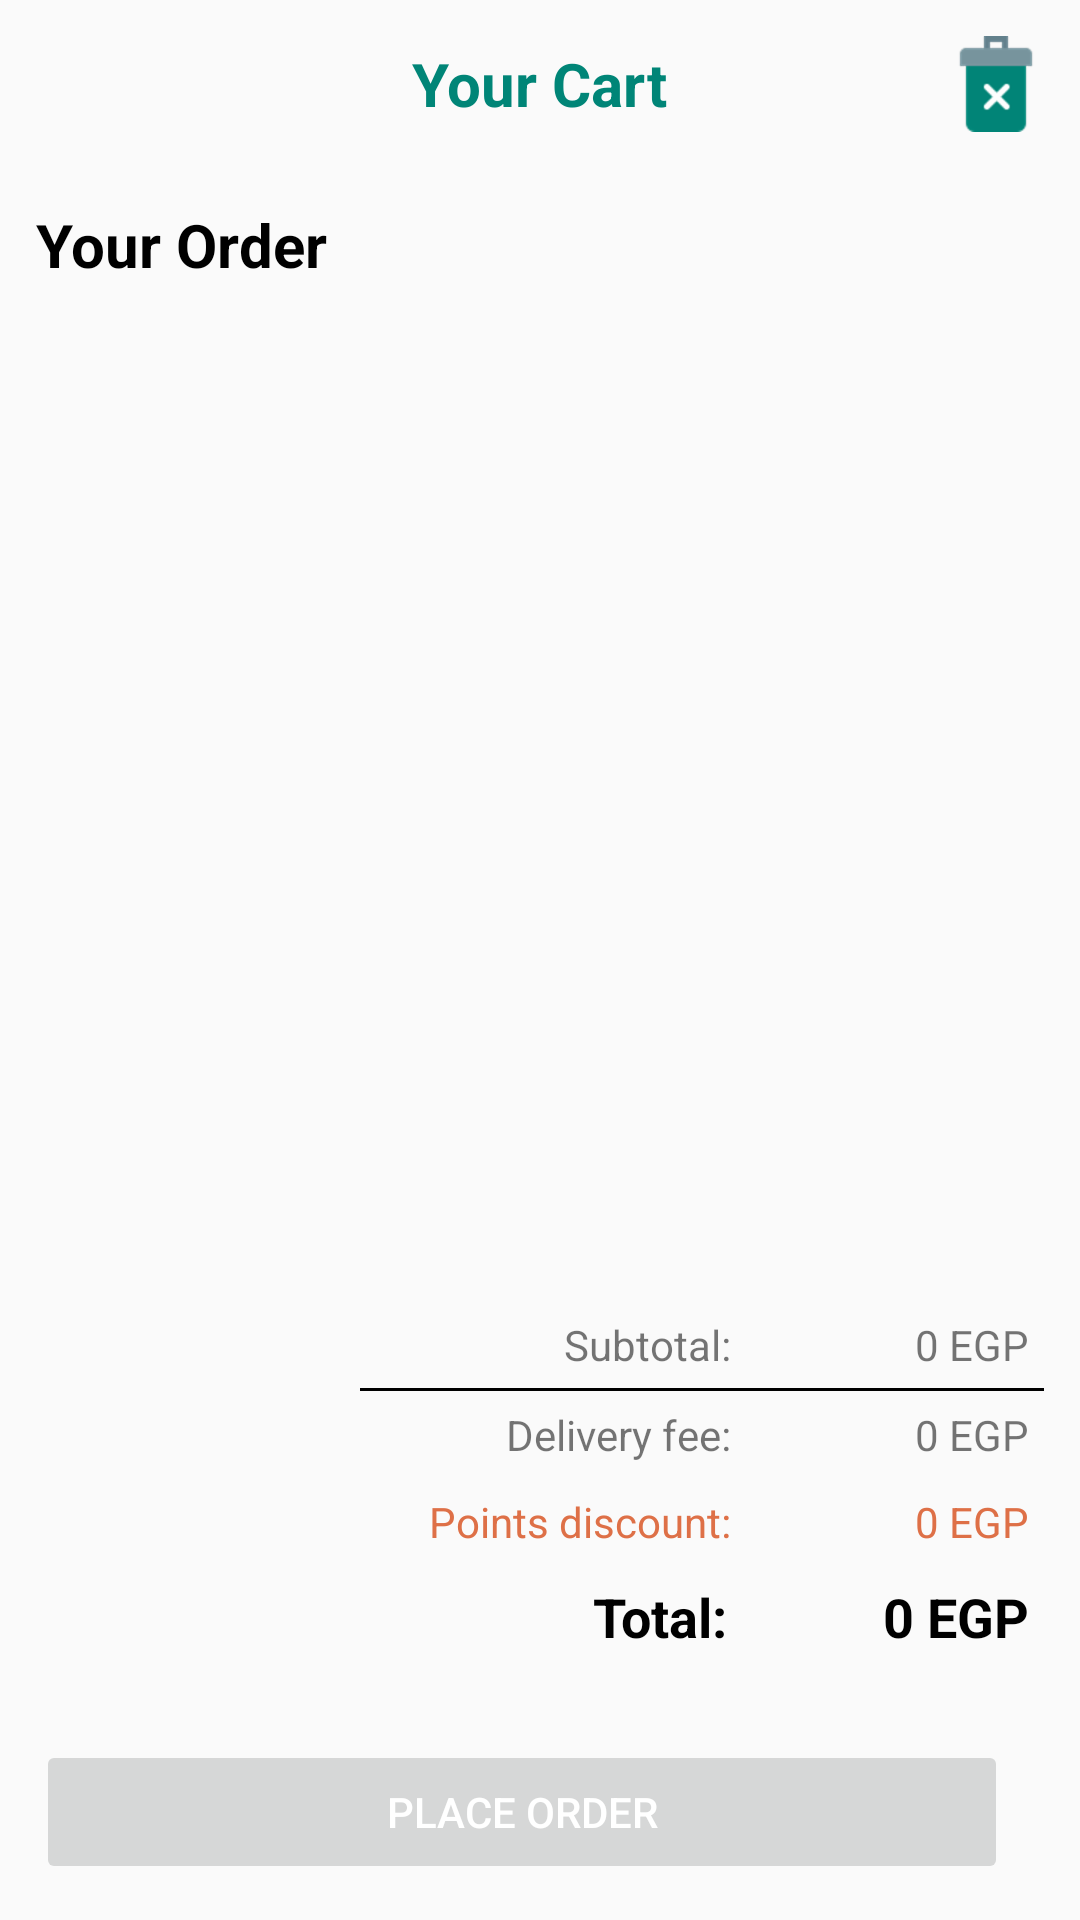

Named icons in this screenshot (1080×1920) and their bounding boxes, detection(x1, y1, x2, y2):
delete: detection(959, 36, 1033, 132)
